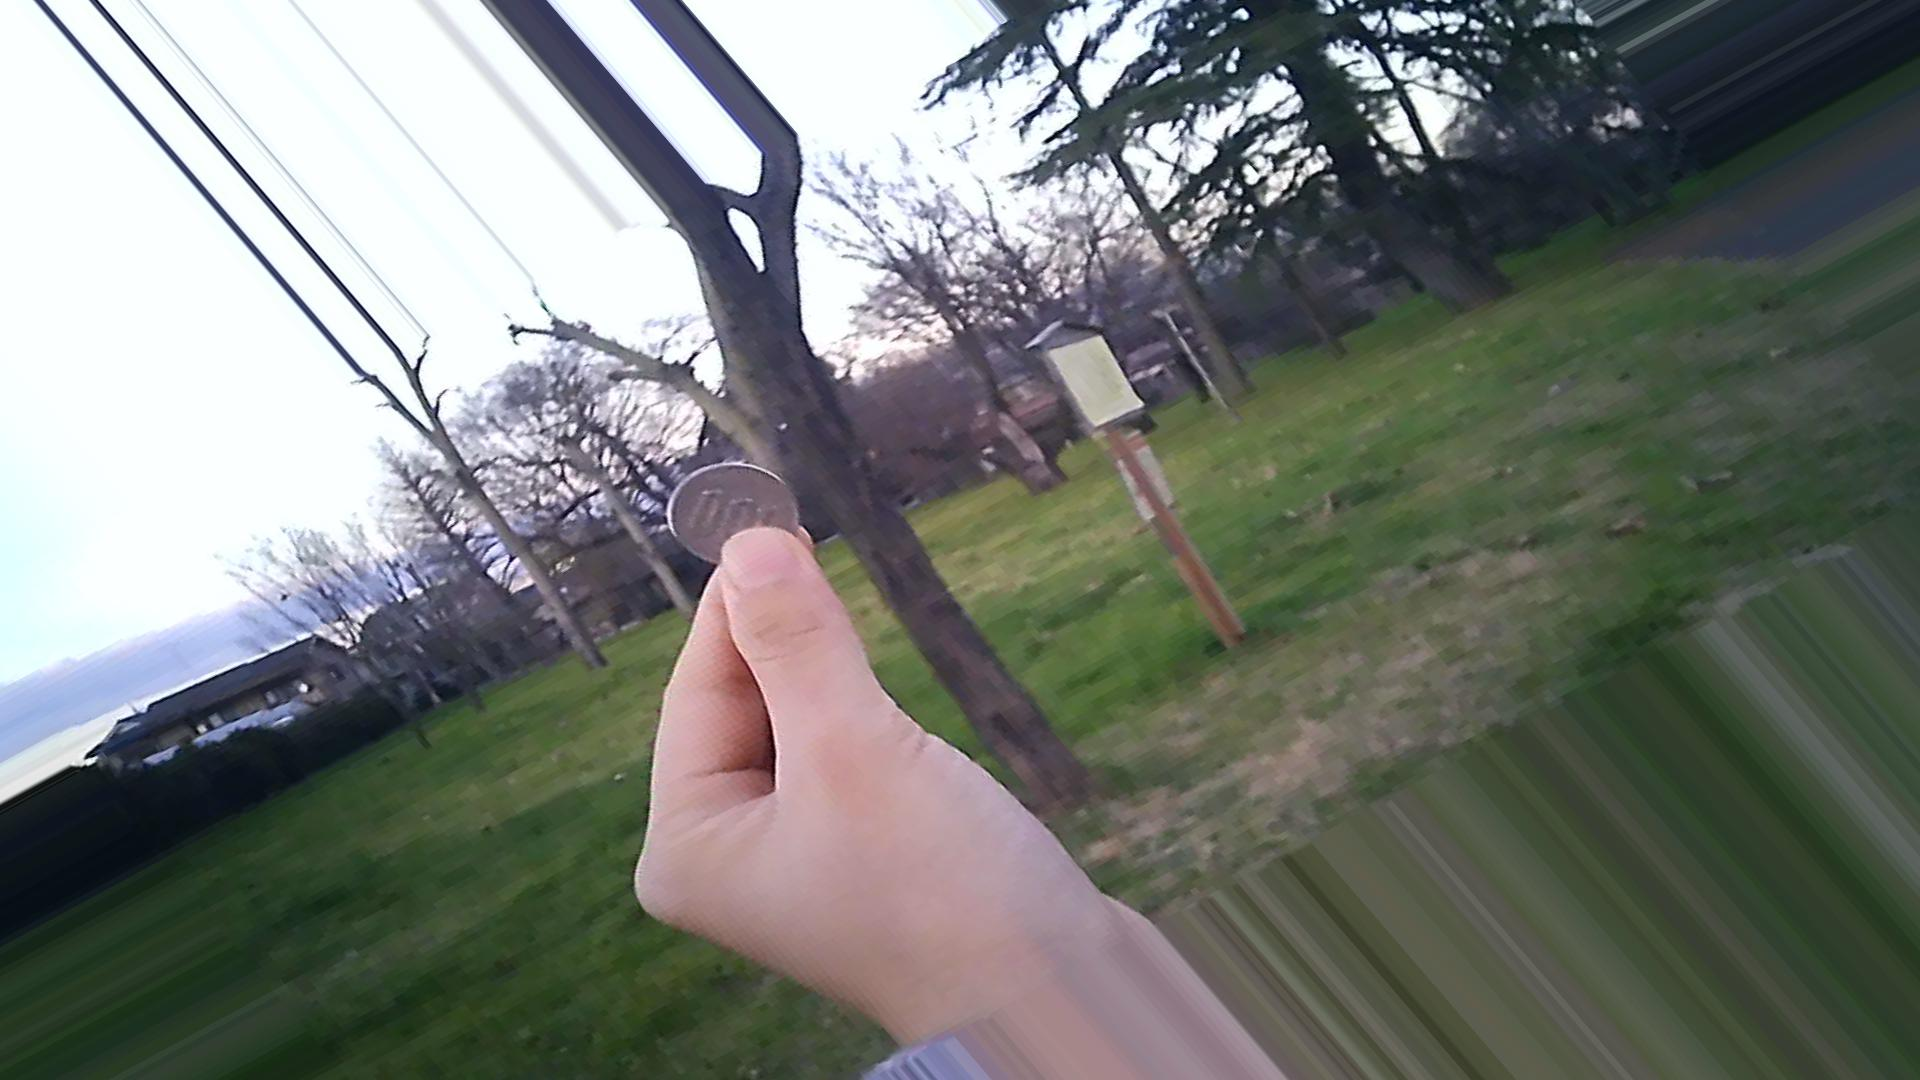100 Yen: (661, 458, 790, 553)
